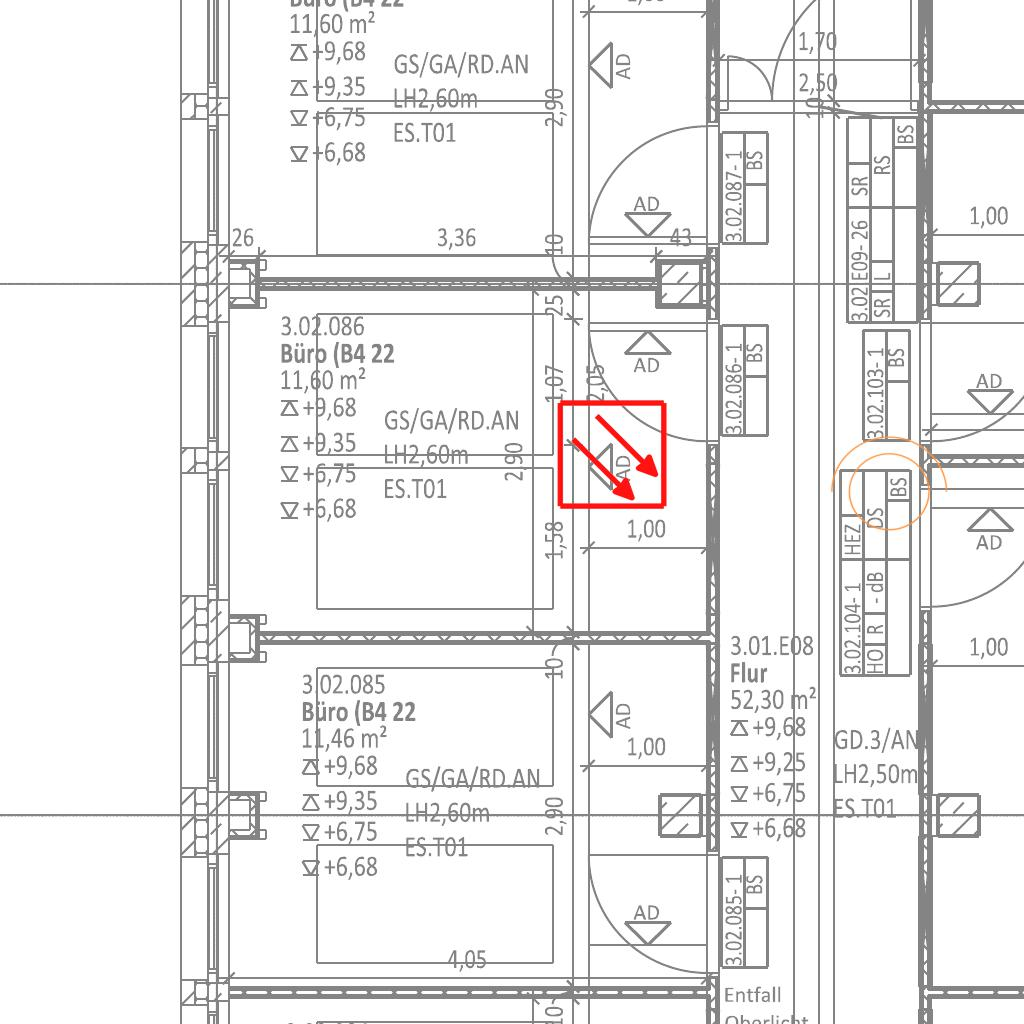RMO_Rauchmelder_optischer: (556, 398, 669, 511)
Scheinwerfer_fuer_Alarmbeleuchtung: (820, 431, 952, 543)
